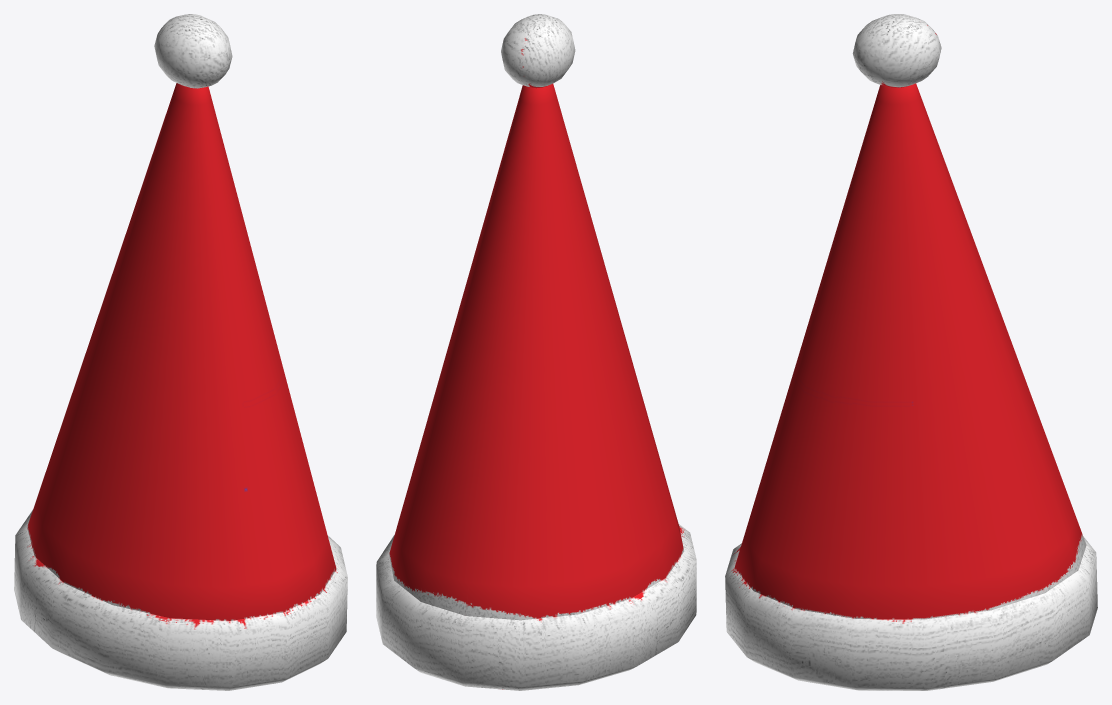
File: navidad.glb
3 renders of one model, left to right at view 1: azimuth 30°, elevation 25°; view 2: azimuth 150°, elevation 25°; view 3: azimuth 270°, elevation 25°, orthographic. The views are drawn at different scales.
Visible parts, largest first — view 1: node_id4; view 2: node_id4; view 3: node_id4.
Boxes of the visible parts, box(x1,y1,x2,y2) form: node_id4: box(14, 14, 347, 690); node_id4: box(376, 14, 696, 690); node_id4: box(725, 14, 1097, 690).
Bounding box in the file's own units: 0.2411 × 0.5152 × 0.2819.
1 material, 1 textured.
